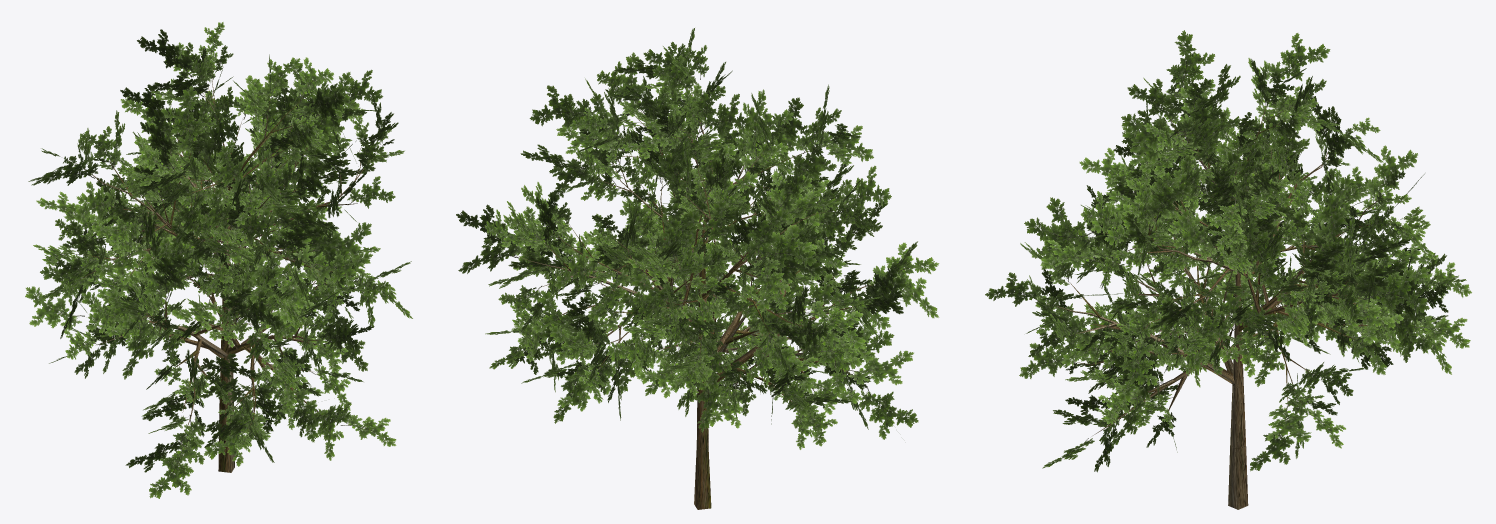
File: oak_sparse.glb
3 renders of one model, left to right at view 1: azimuth 30°, elevation 25°; view 2: azimuth 150°, elevation 25°; view 3: azimuth 270°, elevation 25°, orthographic. The views are drawn at different scales.
Parts seen in each view (by area): view 1: Tree; view 2: Tree; view 3: Tree.
Boxes of the visible parts, <box> form: Tree: <box>25,22,412,498</box>; Tree: <box>456,28,939,509</box>; Tree: <box>985,30,1471,509</box>.
Size of the model in its own units: 61.71 by 72.82 by 70.56.
2 materials, 2 textured.
